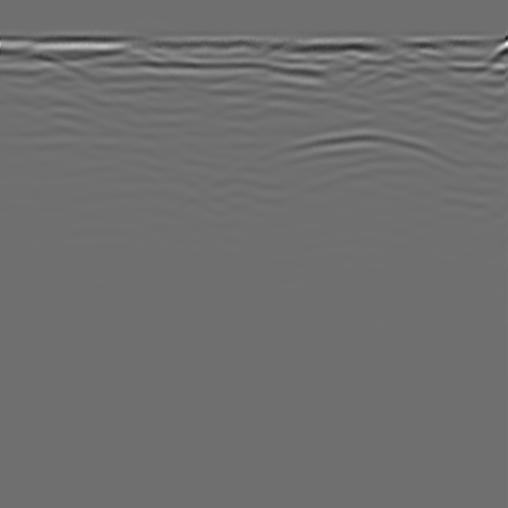hyperbola: (235, 113, 487, 233)
